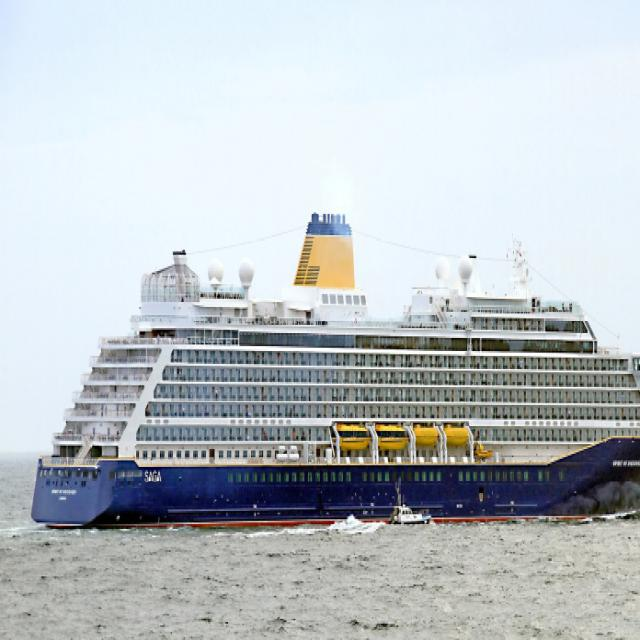cruises: (28, 188, 640, 533)
